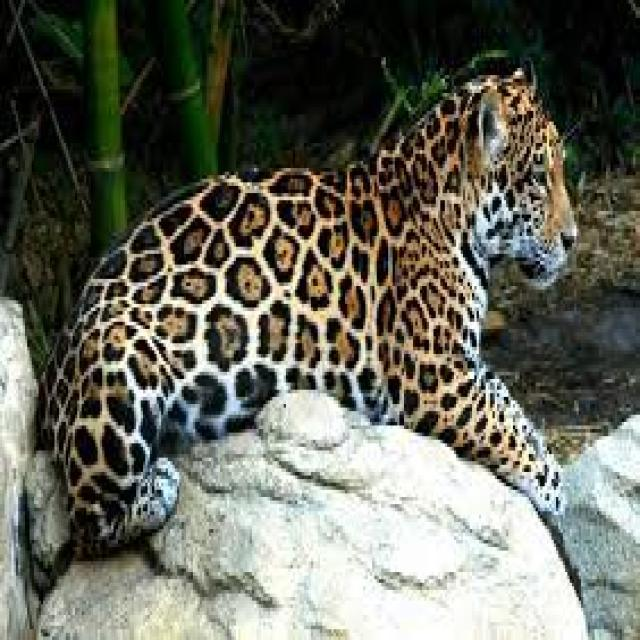Jaguar: (50, 28, 576, 540)
